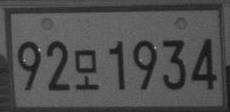1: (106, 40, 130, 90)
2: (46, 40, 70, 91)
3: (162, 39, 186, 90)
4: (190, 38, 217, 91)
9: (132, 39, 157, 90), (17, 40, 41, 91)
모: (74, 49, 99, 90)
